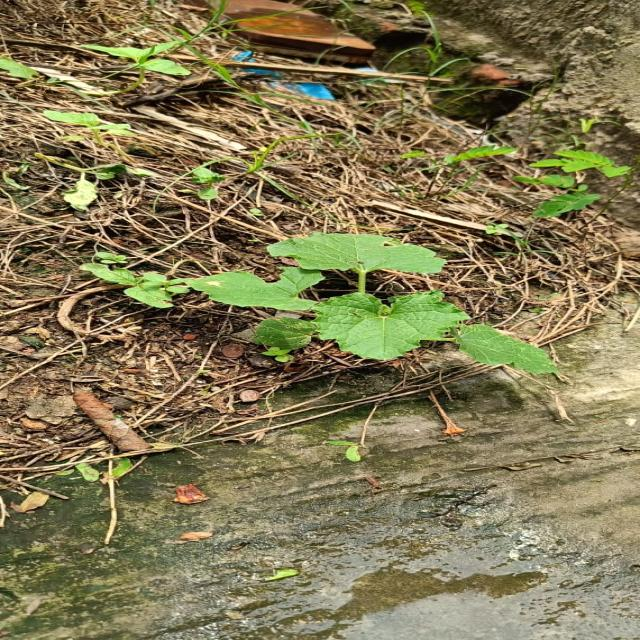plant: (79, 234, 559, 374)
